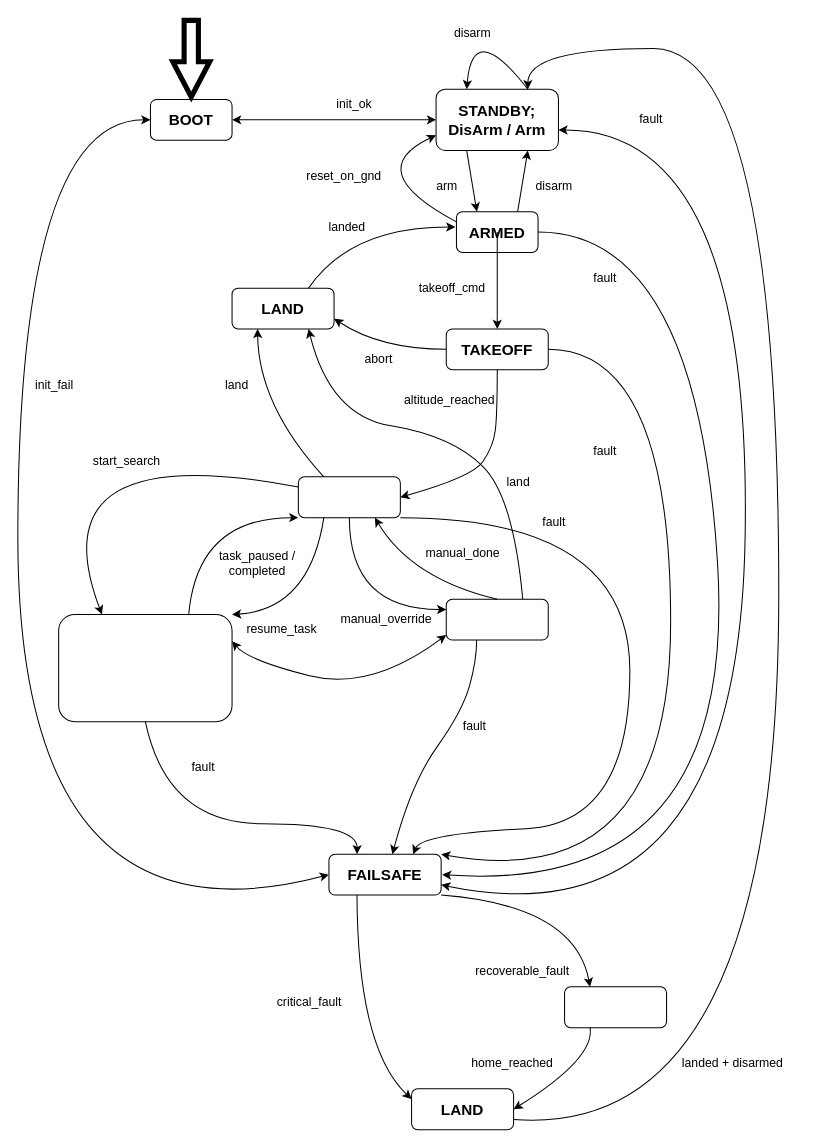
Image size: 817x1148. Some labels were removed from this diagram. The box of each missing label's shape, as (x1, y1, x2, y2) in pixels:
AUTONOMY; autonomy_track autonomy_search: (58, 614, 232, 722)
HOVER: (297, 476, 400, 518)
MANUAL: (445, 598, 548, 640)
RTL: (564, 986, 667, 1028)
